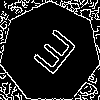E: (25, 27, 79, 85)
